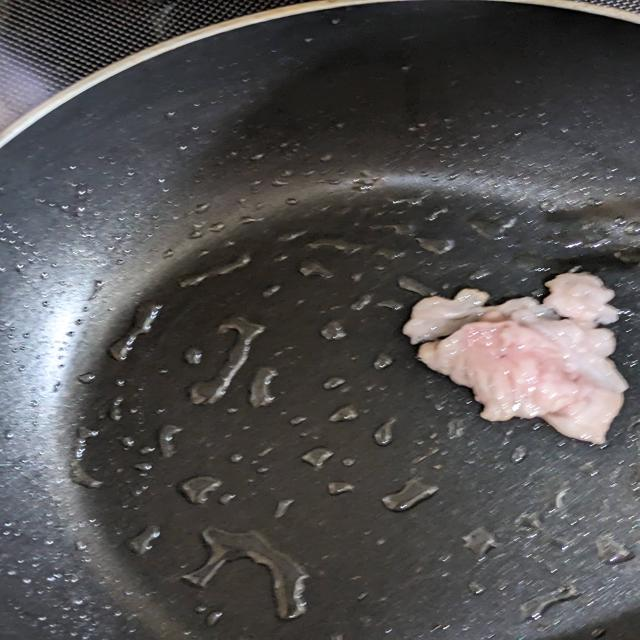NG undercooked pork,: (389, 255, 640, 457)
